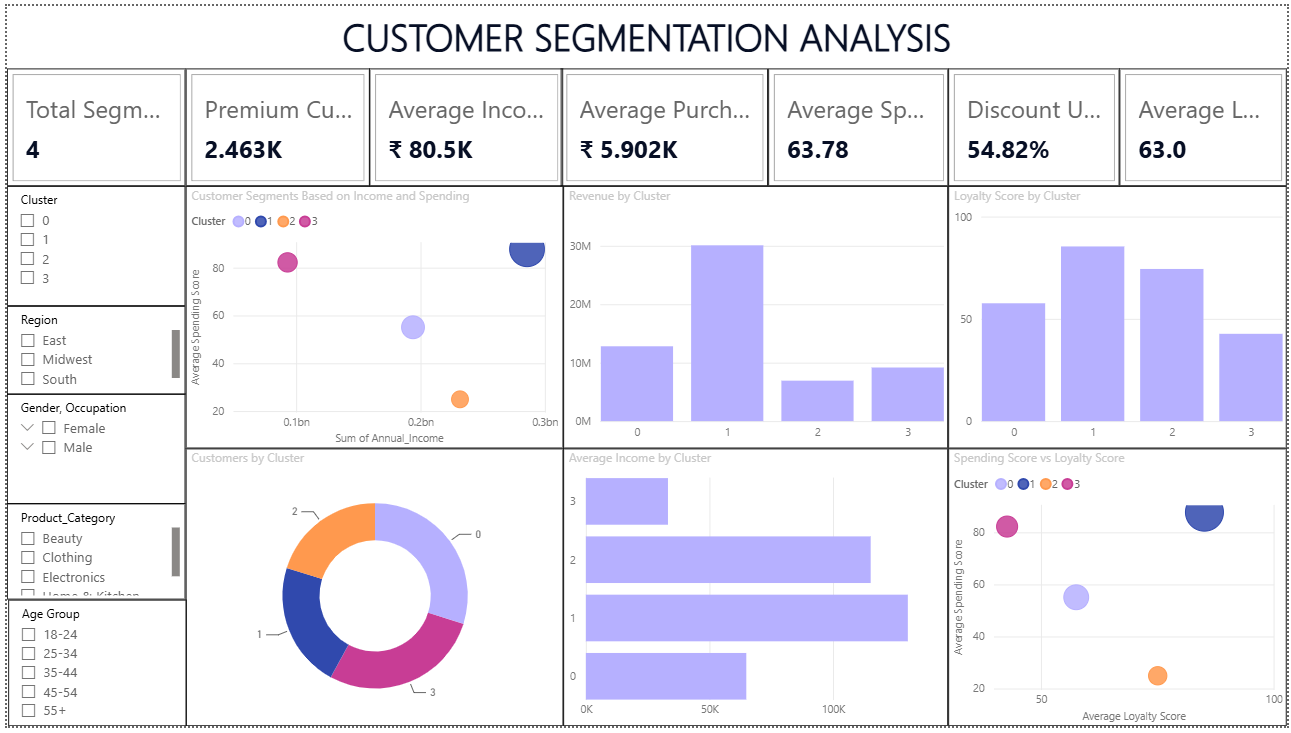

This screenshot's page, from the dashboard's own definition file:
{"tool":"powerbi","page":{"name":"CUSTOMER SEGMENTATION ANALYSIS","canvas":[1280,720],"ordinal":3},"visuals":[{"type":"cardVisual","fields":{"Data":["Customer Data.Total Segments"]},"box":[0,62.5,178.8,117.5],"z":0},{"type":"cardVisual","fields":{"Data":["Customer Data.Average Purchase Amount"]},"box":[553.8,62.5,207.5,117.5],"z":1000},{"type":"cardVisual","fields":{"Data":["Customer Data.Average Spending Score"]},"box":[761.2,62.5,180,117.5],"z":2000},{"type":"cardVisual","fields":{"Data":["Customer Data.Average Loyalty Score"]},"box":[1112.5,62.5,167.5,117.5],"z":3000},{"type":"cardVisual","fields":{"Data":["Customer Data.Discount Usage %"]},"box":[941.2,62.5,171.2,117.5],"z":4000},{"type":"cardVisual","fields":{"Data":["Customer Data.Average Income"]},"box":[362.5,62.5,193.8,117.5],"z":5000},{"type":"cardVisual","fields":{"Data":["Customer Data.Premium Customers"]},"box":[178.8,62.5,183.8,117.5],"z":6000},{"type":"scatterChart","title":"Customer Segments Based on Income and Spending","fields":{"X":["Sum(Customer Data.Annual_Income)"],"Y":["Customer Data.Average Spending Score"],"Size":["Sum(Customer Data.Purchase_Amount)"],"Series":["Customer Data.Cluster"]},"box":[178.8,180,377.5,262.5],"z":7000},{"type":"donutChart","title":"Customers by Cluster","fields":{"Y":["CountNonNull(Customer Data.Customer_ID)"],"Category":["Customer Data.Cluster"]},"box":[178.8,442.5,377.5,277.5],"z":8000},{"type":"clusteredColumnChart","title":"Revenue by Cluster","fields":{"Category":["Customer Data.Cluster"],"Y":["Sum(Customer Data.Purchase_Amount)"]},"box":[556.2,180,385,262.5],"z":9000},{"type":"barChart","title":"Average Income by Cluster","fields":{"Category":["Customer Data.Cluster"],"Y":["Customer Data.Average Annual Income"]},"box":[556.2,442.5,385,277.5],"z":10000},{"type":"columnChart","title":"Loyalty Score by Cluster","fields":{"Category":["Customer Data.Cluster"],"Y":["Customer Data.Average Loyalty Score"]},"box":[941.2,180,338.8,262.5],"z":11000},{"type":"textbox","box":[0,0,1280,62.5],"z":12000},{"type":"slicer","fields":{"Values":["Customer Data.Cluster"]},"box":[0,180,178.8,120],"z":13000},{"type":"slicer","fields":{"Values":["Customer Data.Region"]},"box":[0,300,178.8,88.8],"z":14000},{"type":"slicer","fields":{"Values":["Customer Data.Gender","Customer Data.Occupation"]},"box":[0,387.5,178.8,110],"z":15000},{"type":"slicer","fields":{"Values":["Customer Data.Product_Category"]},"box":[0,497.5,178.8,96.2],"z":16000},{"type":"slicer","fields":{"Values":["Customer Data.Age Group"]},"box":[1.2,593.8,178.8,126.2],"z":17000},{"type":"scatterChart","title":"Spending Score vs Loyalty Score","fields":{"X":["Customer Data.Average Loyalty Score"],"Y":["Customer Data.Average Spending Score"],"Series":["Customer Data.Cluster"],"Size":["Sum(Customer Data.Purchase_Amount)"]},"box":[941.2,442.5,338.8,277.5],"z":18000}]}

Visuals, with their boxes in screenshot pixels (x1, y1, x2, y2), scaled from the page's 1280x720 canvas onto the 1291x733 screenshot:
cardVisual - Customer Data.Total Segments: (left=0, top=64, right=180, bottom=183)
cardVisual - Customer Data.Average Purchase Amount: (left=559, top=64, right=768, bottom=183)
cardVisual - Customer Data.Average Spending Score: (left=768, top=64, right=949, bottom=183)
cardVisual - Customer Data.Average Loyalty Score: (left=1122, top=64, right=1290, bottom=183)
cardVisual - Customer Data.Discount Usage %: (left=949, top=64, right=1122, bottom=183)
cardVisual - Customer Data.Average Income: (left=366, top=64, right=561, bottom=183)
cardVisual - Customer Data.Premium Customers: (left=180, top=64, right=366, bottom=183)
"Customer Segments Based on Income and Spending" scatterChart: (left=180, top=183, right=561, bottom=450)
"Customers by Cluster" donutChart: (left=180, top=450, right=561, bottom=732)
"Revenue by Cluster" clusteredColumnChart: (left=561, top=183, right=949, bottom=450)
"Average Income by Cluster" barChart: (left=561, top=450, right=949, bottom=732)
"Loyalty Score by Cluster" columnChart: (left=949, top=183, right=1290, bottom=450)
textbox: (left=0, top=0, right=1290, bottom=64)
slicer - Customer Data.Cluster: (left=0, top=183, right=180, bottom=305)
slicer - Customer Data.Region: (left=0, top=305, right=180, bottom=396)
slicer - Customer Data.Gender x Customer Data.Occupation: (left=0, top=394, right=180, bottom=506)
slicer - Customer Data.Product_Category: (left=0, top=506, right=180, bottom=604)
slicer - Customer Data.Age Group: (left=1, top=605, right=182, bottom=732)
"Spending Score vs Loyalty Score" scatterChart: (left=949, top=450, right=1290, bottom=732)
